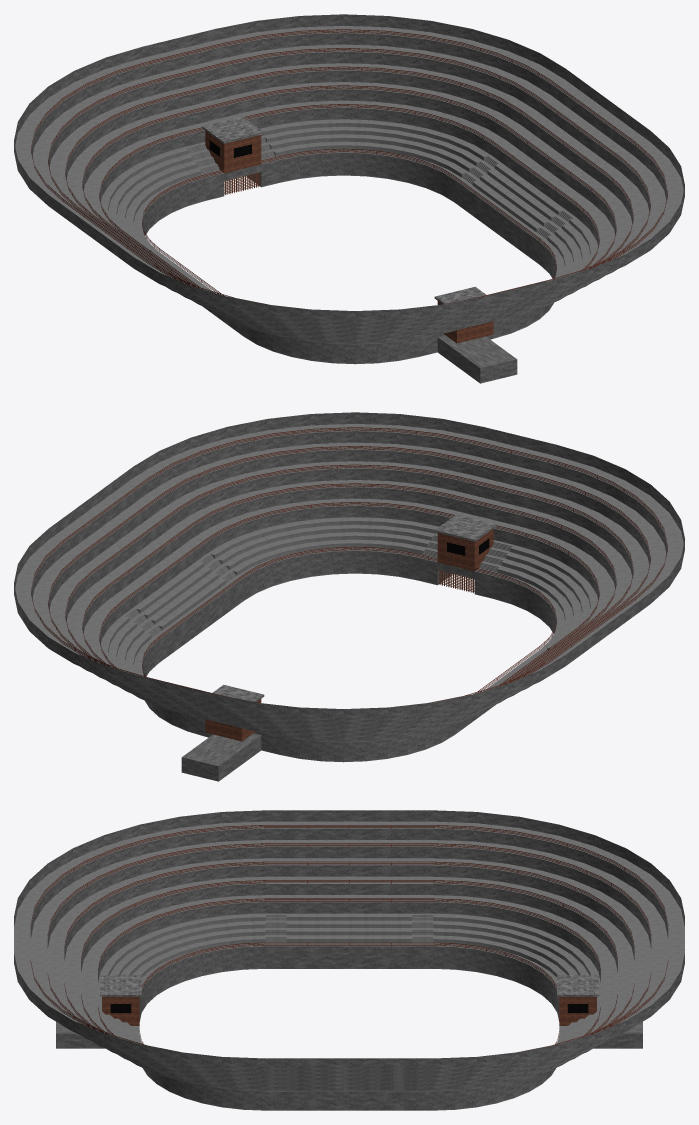
The model's file is Arena.fbx.
3 views of the same model, one above another, from view 1: azimuth 30°, elevation 25°; view 2: azimuth 150°, elevation 25°; view 3: azimuth 270°, elevation 25° (orthographic).
Visible parts, largest first — view 1: obj_base; view 2: obj_base; view 3: obj_base.
Part boxes in pixels (x1=…): obj_base: x1=14, y1=14, x2=684, y2=383; obj_base: x1=14, y1=412, x2=684, y2=781; obj_base: x1=14, y1=810, x2=684, y2=1110.
Bounding box in the file's own units: 70 × 13.86 × 80.
